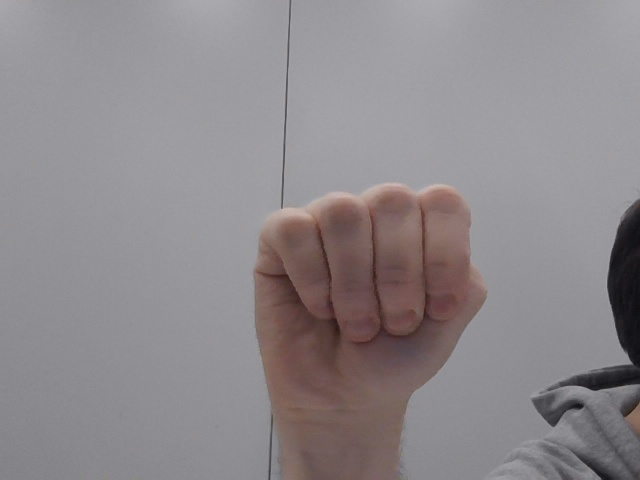down: (193, 155, 510, 415)
